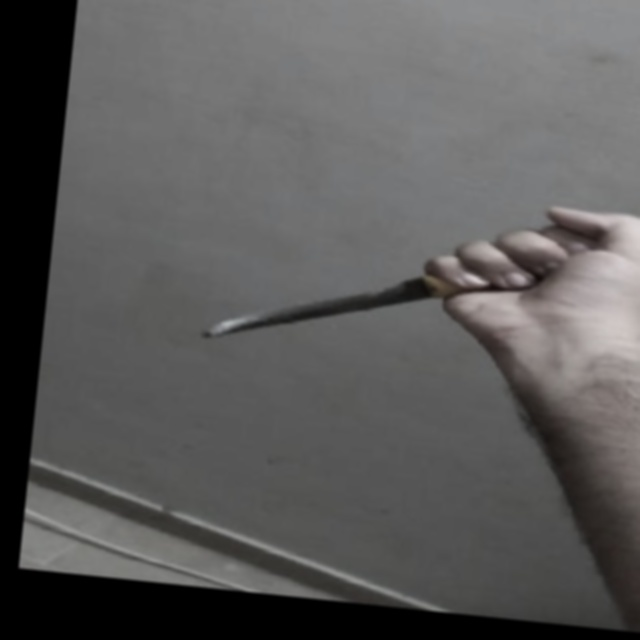Sharp-Object: (204, 250, 460, 365)
